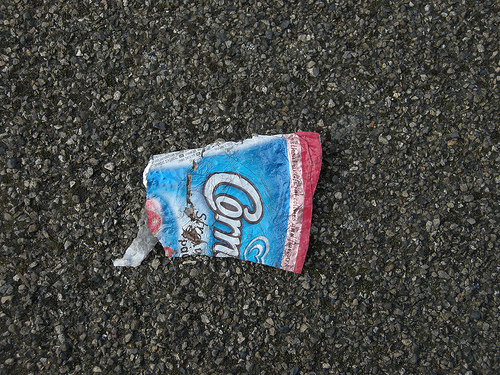litter: (110, 134, 323, 275)
